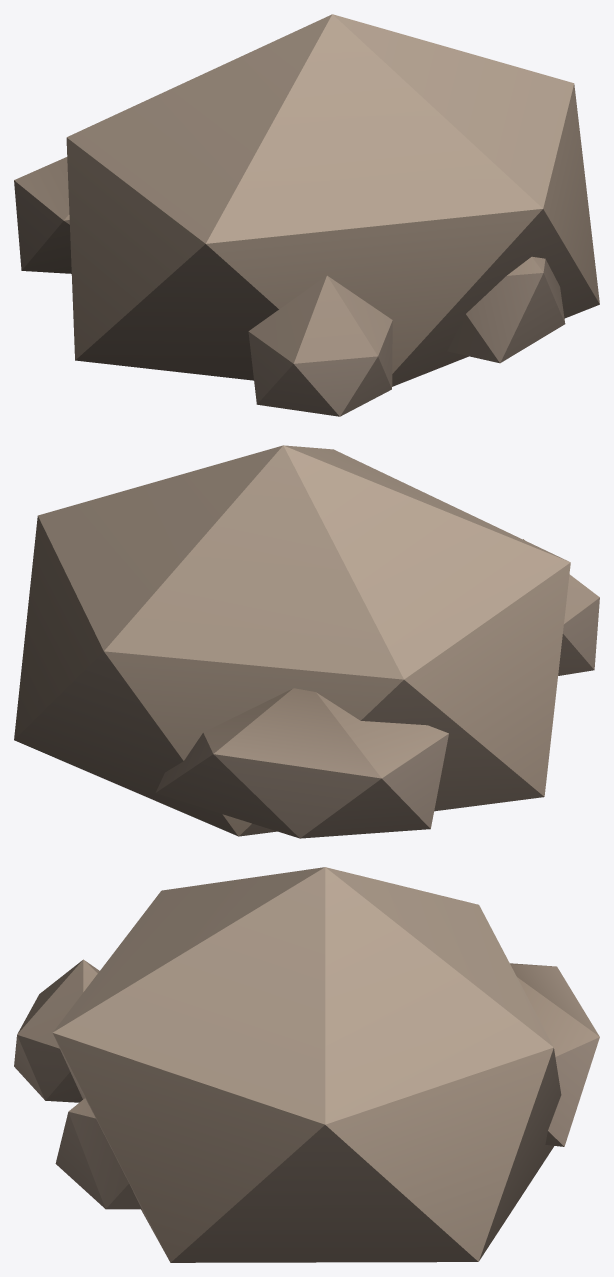
File: rocks_2.glb
3 views of the same model, one above another, from view 1: azimuth 30°, elevation 25°; view 2: azimuth 150°, elevation 25°; view 3: azimuth 270°, elevation 25° (orthographic). The views are drawn at different scales.
Parts seen in each view (by area): view 1: rocks_2; view 2: rocks_2; view 3: rocks_2.
Boxes of the visible parts, box(x1,y1,x2,y2) form: rocks_2: box(14, 14, 599, 416); rocks_2: box(14, 445, 599, 838); rocks_2: box(14, 867, 599, 1262).
Bounding box in the file's own units: 4.02 × 2.18 × 3.9.
